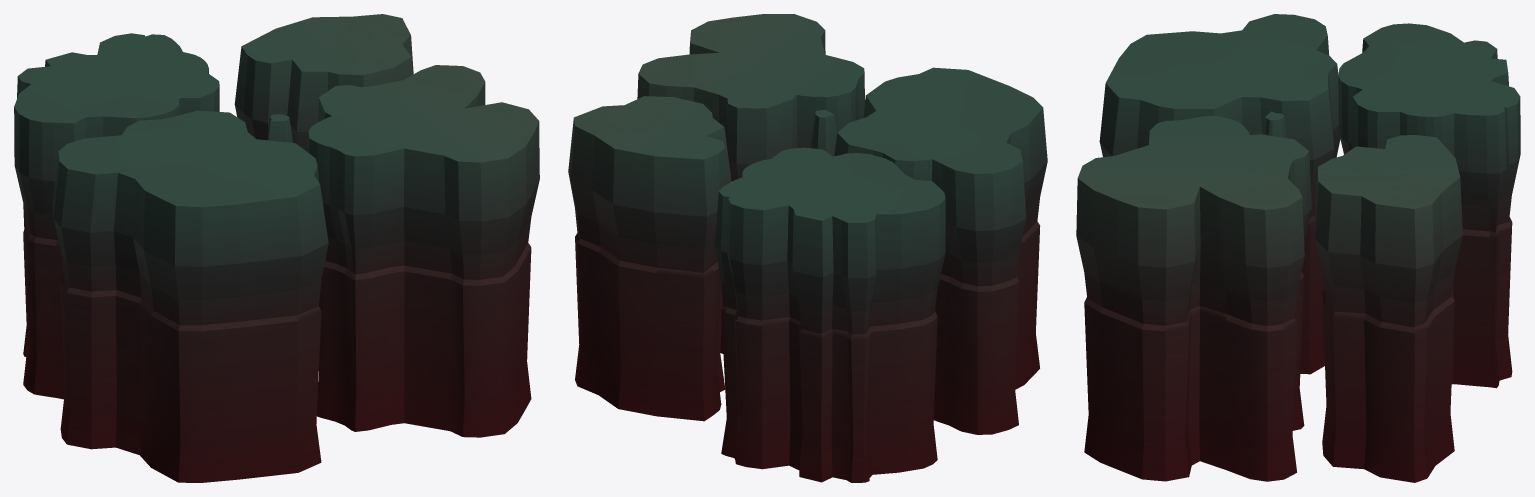
File: SM_Vista_Rocks.fbx
3 views of the same model, side by side, from view 1: azimuth 30°, elevation 25°; view 2: azimuth 150°, elevation 25°; view 3: azimuth 270°, elevation 25° (orthographic). The views are drawn at different scales.
Visible parts, largest first — view 1: SM_Vista_Rocks; view 2: SM_Vista_Rocks; view 3: SM_Vista_Rocks.
Part boxes in pixels (x1,y1,x2,y2): SM_Vista_Rocks: [14, 14, 539, 482]; SM_Vista_Rocks: [568, 14, 1047, 482]; SM_Vista_Rocks: [1076, 14, 1520, 482].
Bounding box in the file's own units: 229370 × 146683 × 214979.
1 material, 1 textured.
